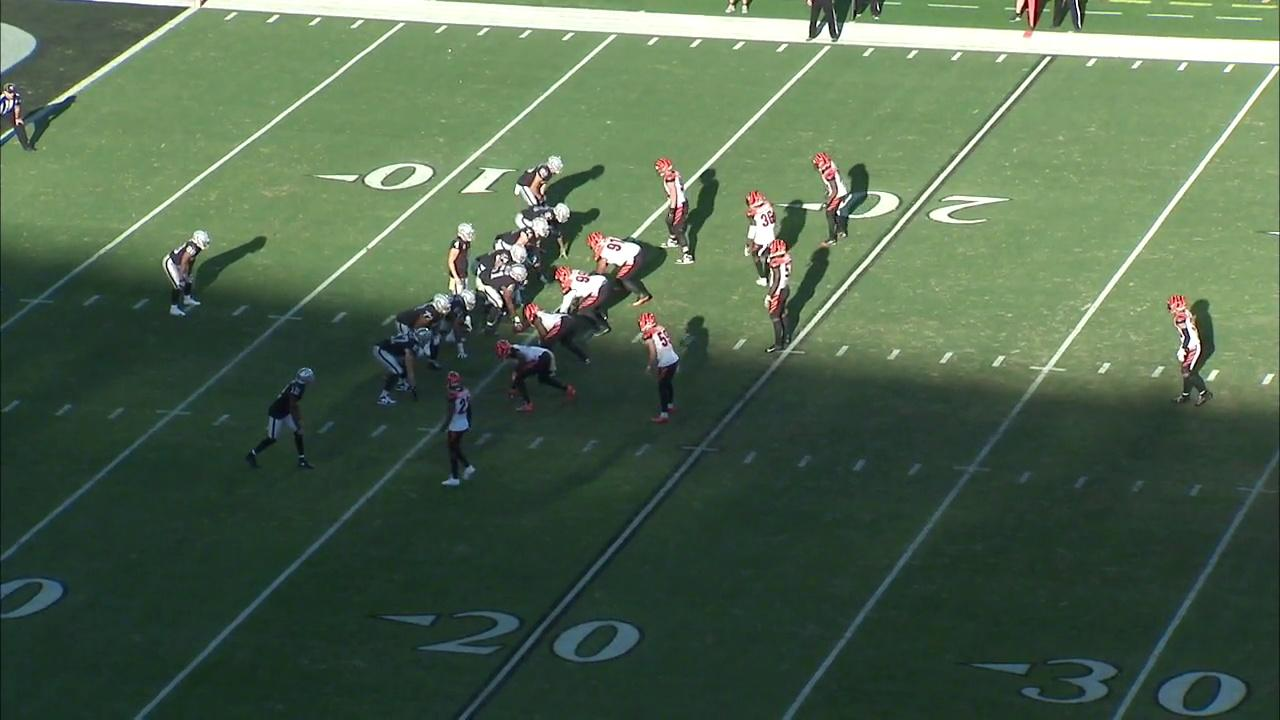player: (243, 365, 322, 473), (493, 336, 579, 418), (1162, 290, 1214, 410), (523, 301, 595, 381), (370, 326, 436, 409), (585, 230, 653, 310), (390, 289, 451, 376), (636, 308, 680, 427), (652, 155, 697, 268), (438, 368, 479, 491), (160, 228, 213, 318), (552, 263, 614, 339), (491, 212, 550, 289), (759, 237, 795, 357), (475, 261, 529, 337), (471, 243, 528, 314), (741, 186, 779, 289), (810, 151, 848, 251), (513, 201, 576, 261), (430, 287, 478, 364), (513, 154, 566, 210), (445, 221, 477, 294)
ref: (0, 77, 39, 157)
